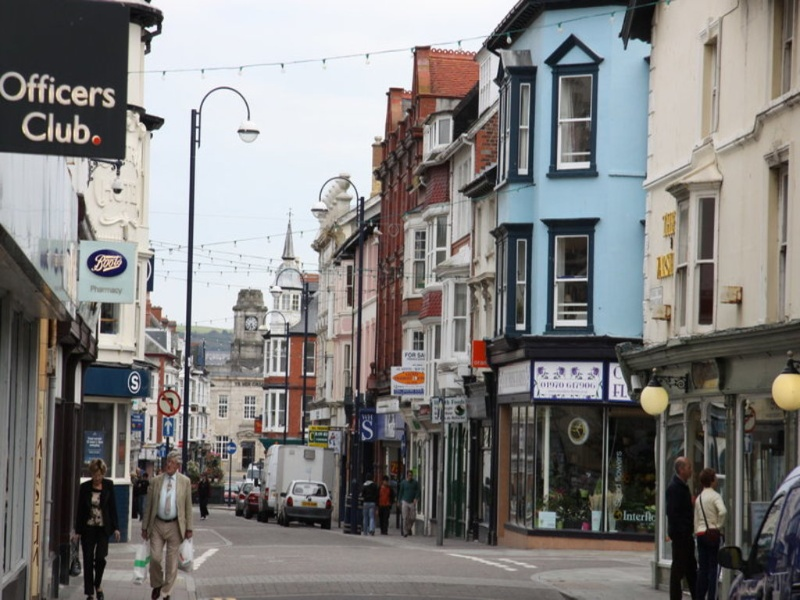no_left_turn: (157, 388, 184, 417)
